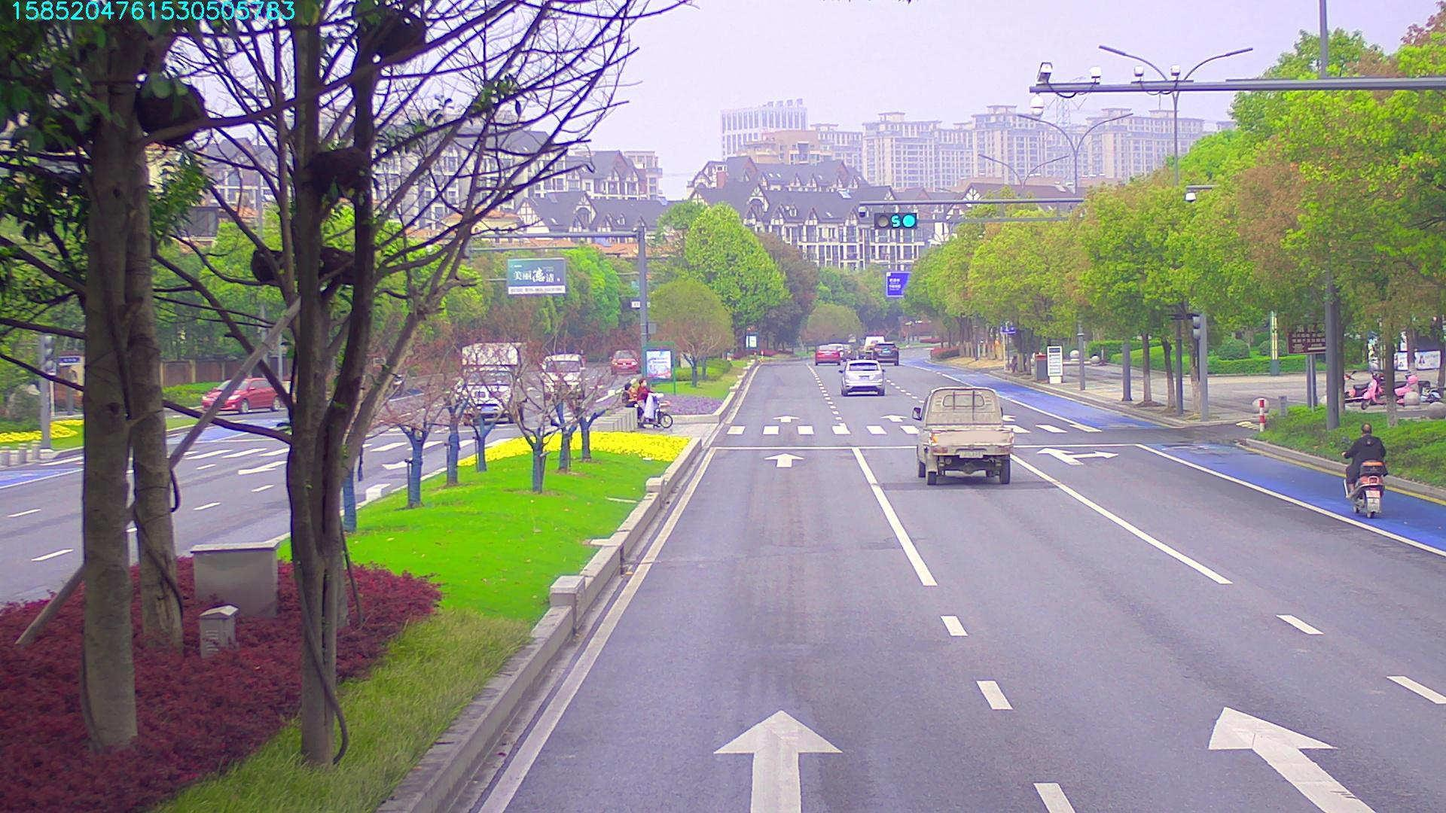green: (872, 212, 914, 230)
